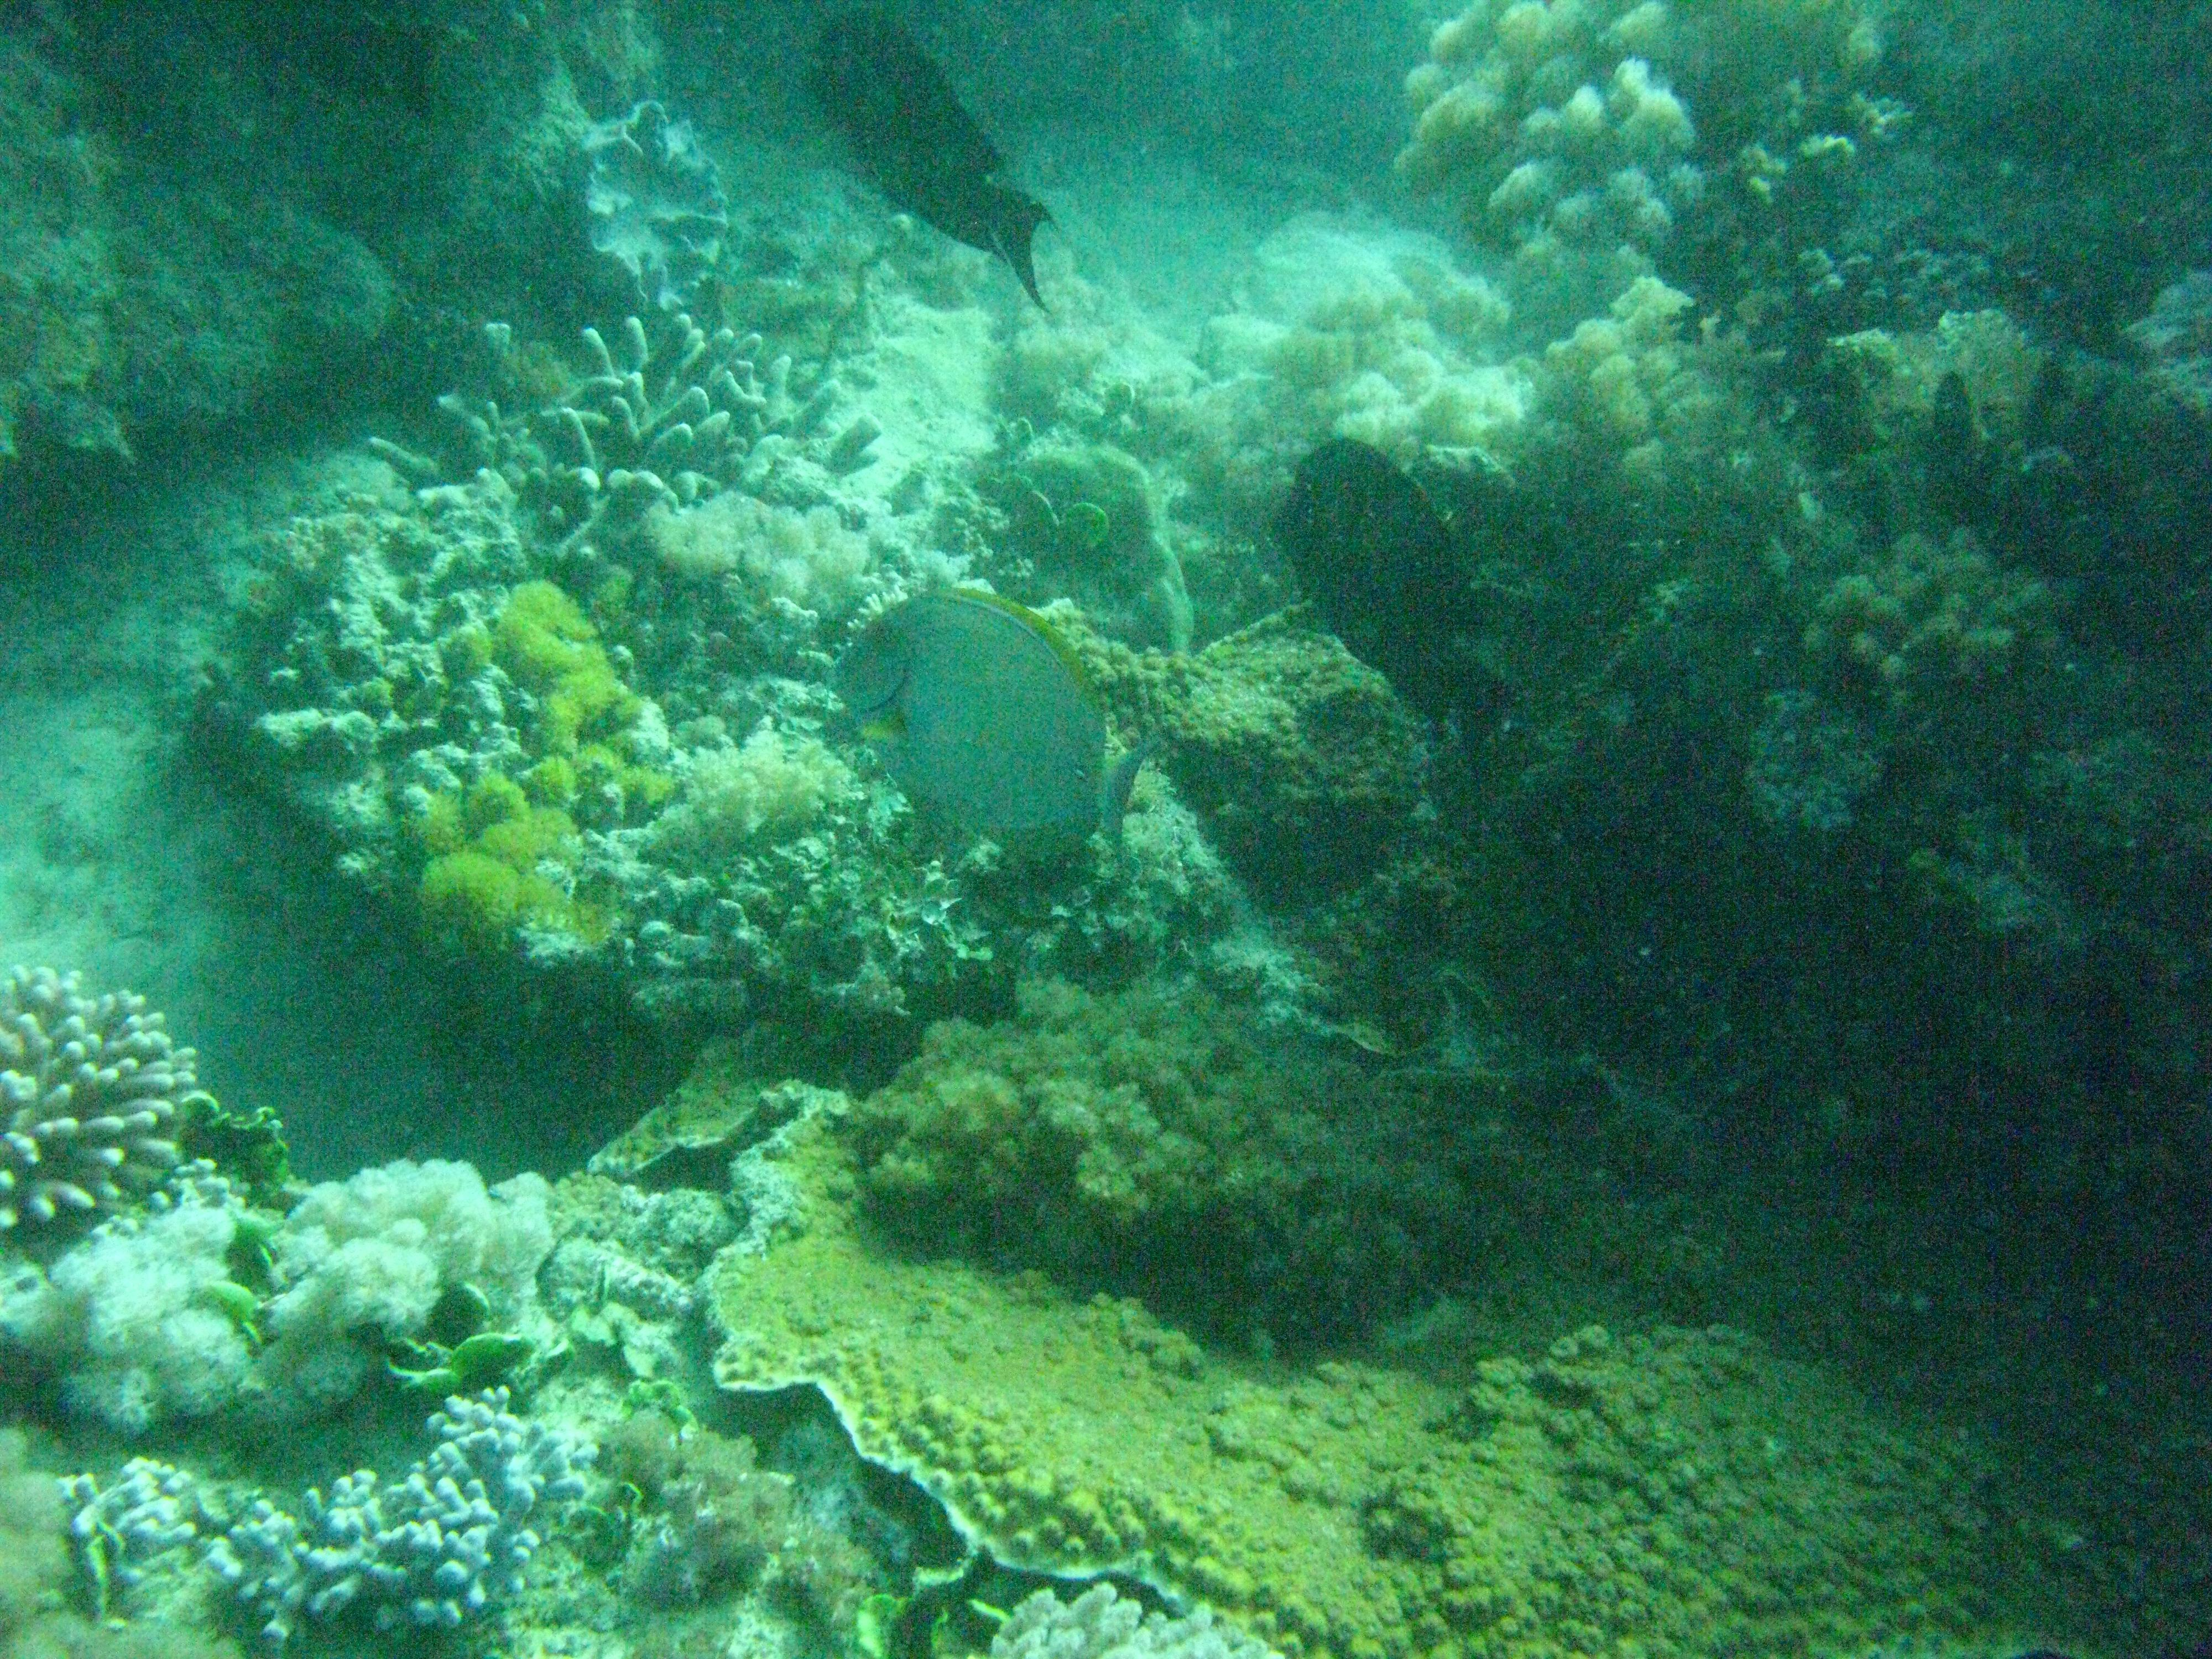Acanthurus dussumieri: (782, 476, 1204, 979)
